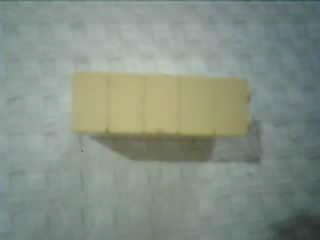lego: (66, 68, 254, 147)
